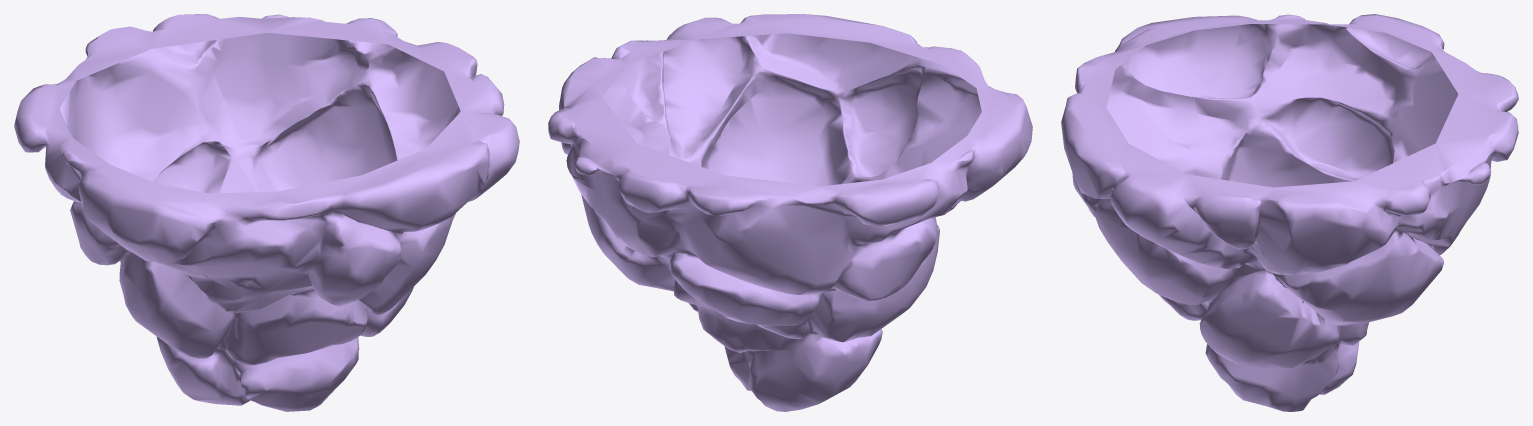
Rendered from island_4_LOD3.fbx.
3 renders of one model, left to right at view 1: azimuth 30°, elevation 25°; view 2: azimuth 150°, elevation 25°; view 3: azimuth 270°, elevation 25°, orthographic. The views are drawn at different scales.
Parts seen in each view (by area): view 1: island_4_LOD3; view 2: island_4_LOD3; view 3: island_4_LOD3.
Boxes of the visible parts, x1,y1,x2,y2 form: island_4_LOD3: (14, 14, 519, 411); island_4_LOD3: (548, 14, 1032, 411); island_4_LOD3: (1061, 14, 1518, 411).
Size of the model in its own units: 1531 by 1068 by 1496.
